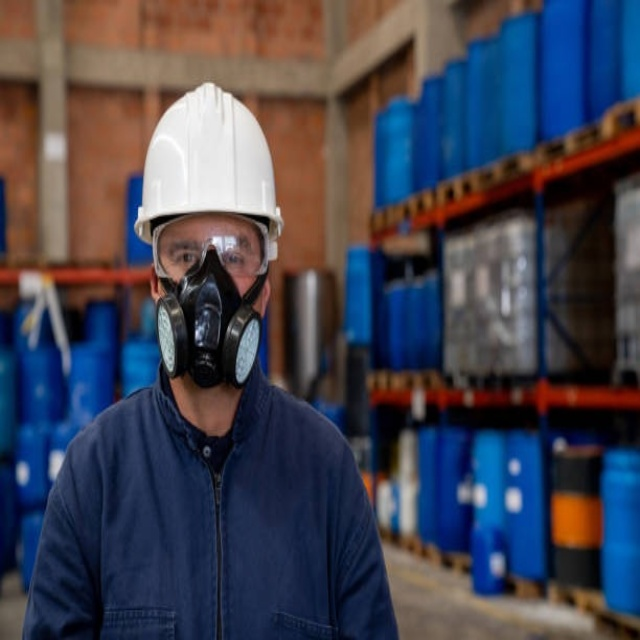Gafas: (153, 226, 269, 284)
Mascara: (154, 248, 266, 390)
